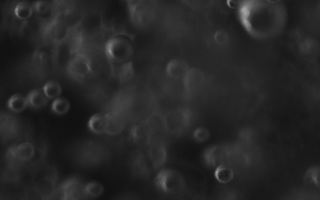bubble: (240, 1, 288, 43), (104, 33, 135, 63), (157, 170, 185, 197), (165, 57, 191, 81), (87, 111, 110, 136), (210, 163, 234, 184), (29, 88, 49, 110), (51, 96, 71, 116), (5, 93, 26, 112), (13, 1, 33, 19), (43, 81, 63, 99), (211, 27, 229, 46), (193, 125, 210, 143), (227, 1, 240, 10)
